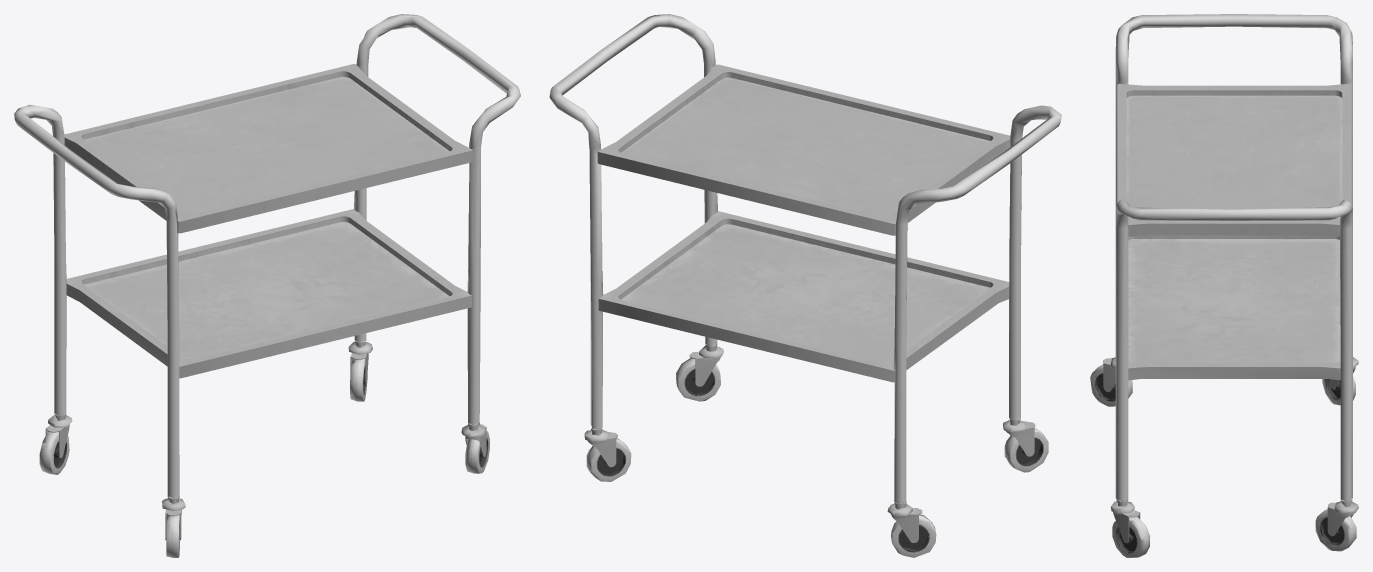
File: cart.glb
3 views of the same model, side by side, from view 1: azimuth 30°, elevation 25°; view 2: azimuth 150°, elevation 25°; view 3: azimuth 270°, elevation 25° (orthographic). The views are drawn at different scales.
Parts seen in each view (by area): view 1: Trolley; view 2: Trolley; view 3: Trolley.
Boxes of the visible parts, left/top/right/bottom form: Trolley: left=14, top=14, right=520, bottom=557; Trolley: left=549, top=14, right=1061, bottom=557; Trolley: left=1090, top=14, right=1358, bottom=557.
Size of the model in its own units: 1.06 by 0.9131 by 0.603.
Materials: 1 (1 with a texture image).
